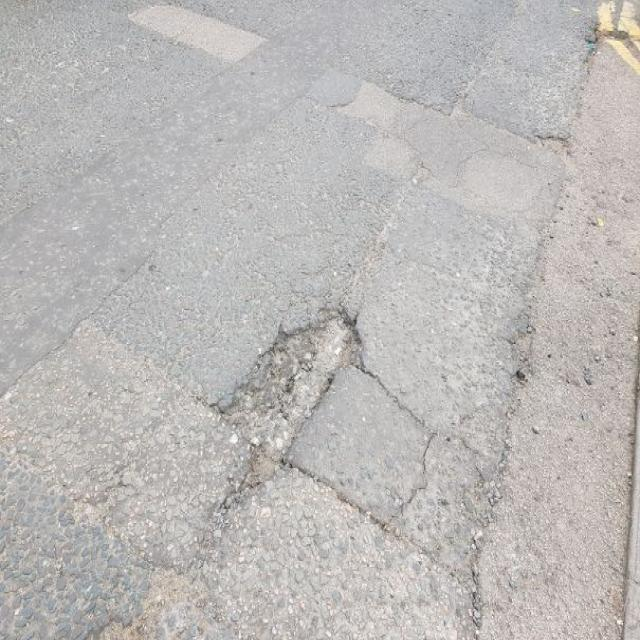pothole: (204, 298, 366, 497)
